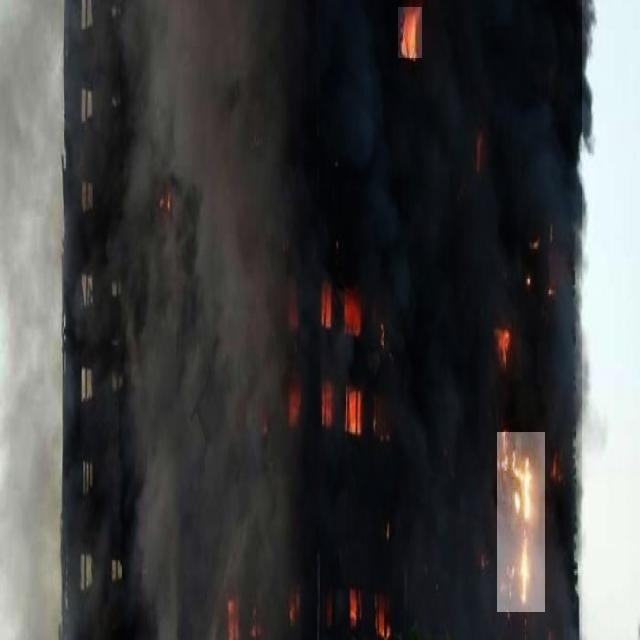Fire: (498, 432, 546, 612), (398, 7, 422, 58)
Smoke: (0, 0, 582, 640)
